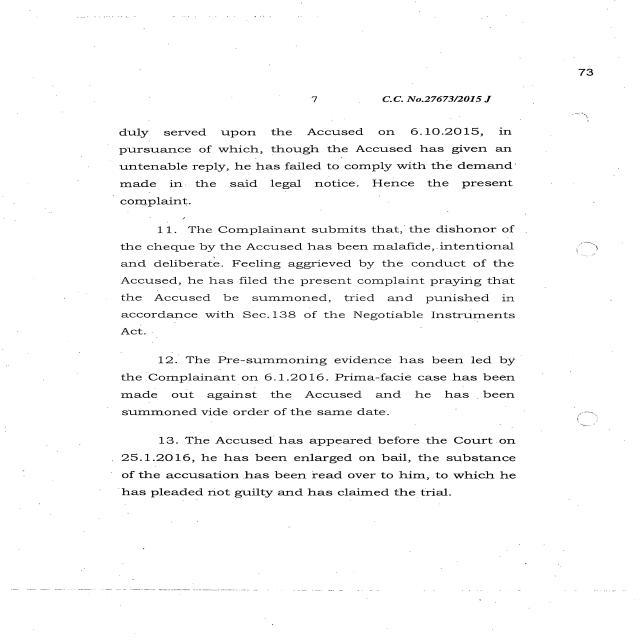page-number: (496, 48, 640, 110)
